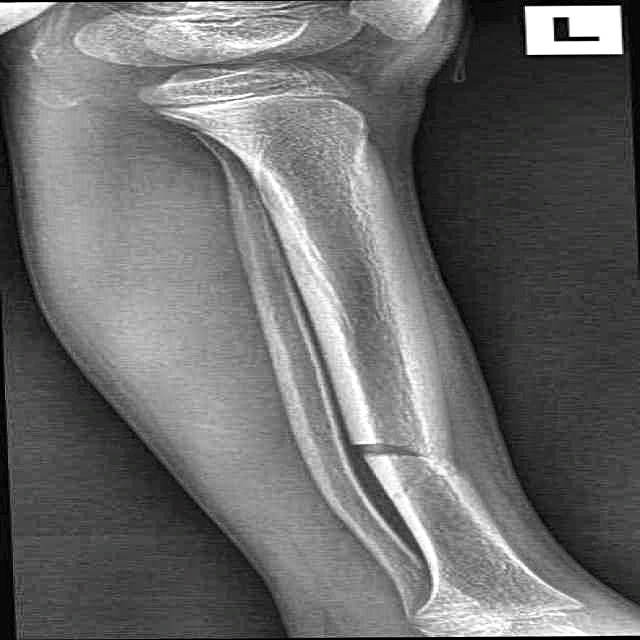Greenstick: (326, 422, 508, 489)
